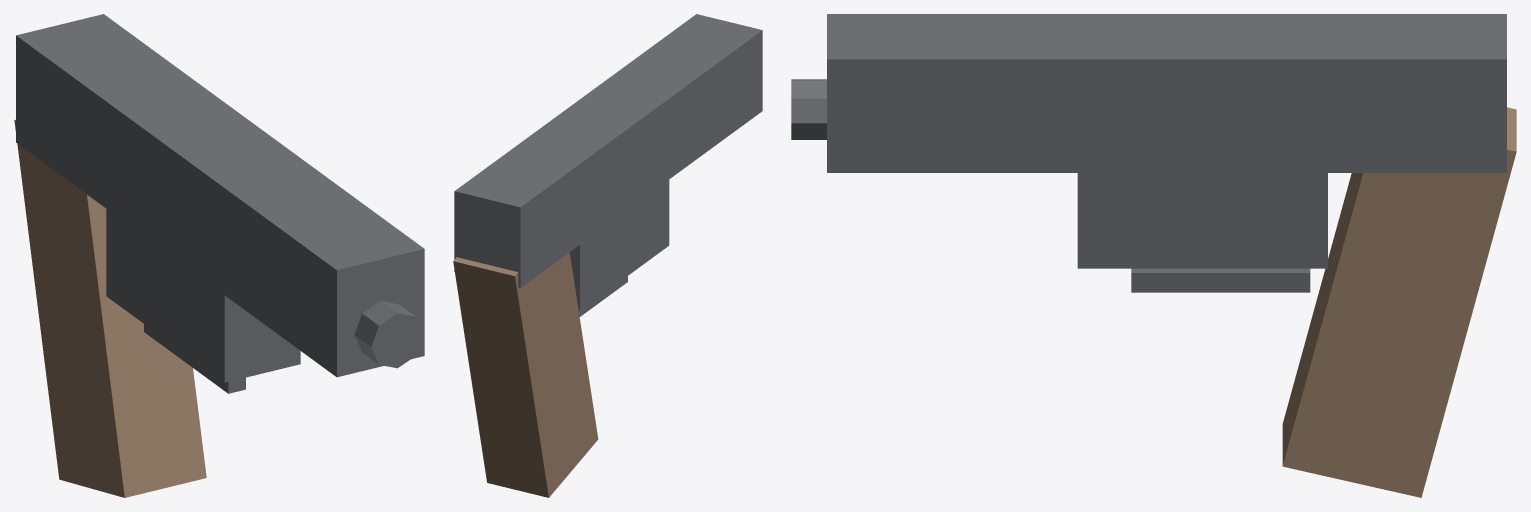
Rendered from pistol.fbx.
The picture shows the model from 3 angles, left to right: view 1: azimuth 30°, elevation 25°; view 2: azimuth 150°, elevation 25°; view 3: azimuth 270°, elevation 25°; orthographic projection. The views are drawn at different scales.
Parts seen in each view (by area): view 1: Pistol; view 2: Pistol; view 3: Pistol.
Part boxes in pixels (left/top/right/bottom): Pistol: left=14, top=14, right=424, bottom=497; Pistol: left=453, top=14, right=762, bottom=497; Pistol: left=791, top=14, right=1516, bottom=497.
Bounding box in the file's own units: 3 × 13.57 × 20.27.
